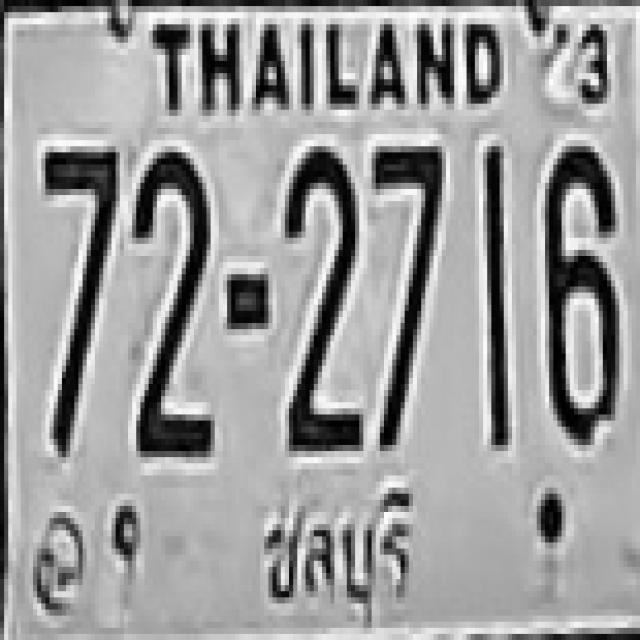1: (481, 140, 506, 439)
2: (130, 146, 209, 439), (132, 162, 211, 454), (283, 140, 357, 439), (283, 143, 357, 418)
6: (541, 140, 615, 439)
7: (41, 146, 120, 451), (370, 140, 440, 445), (41, 146, 120, 414), (41, 144, 120, 350)
Chonburi: (250, 475, 422, 629)
